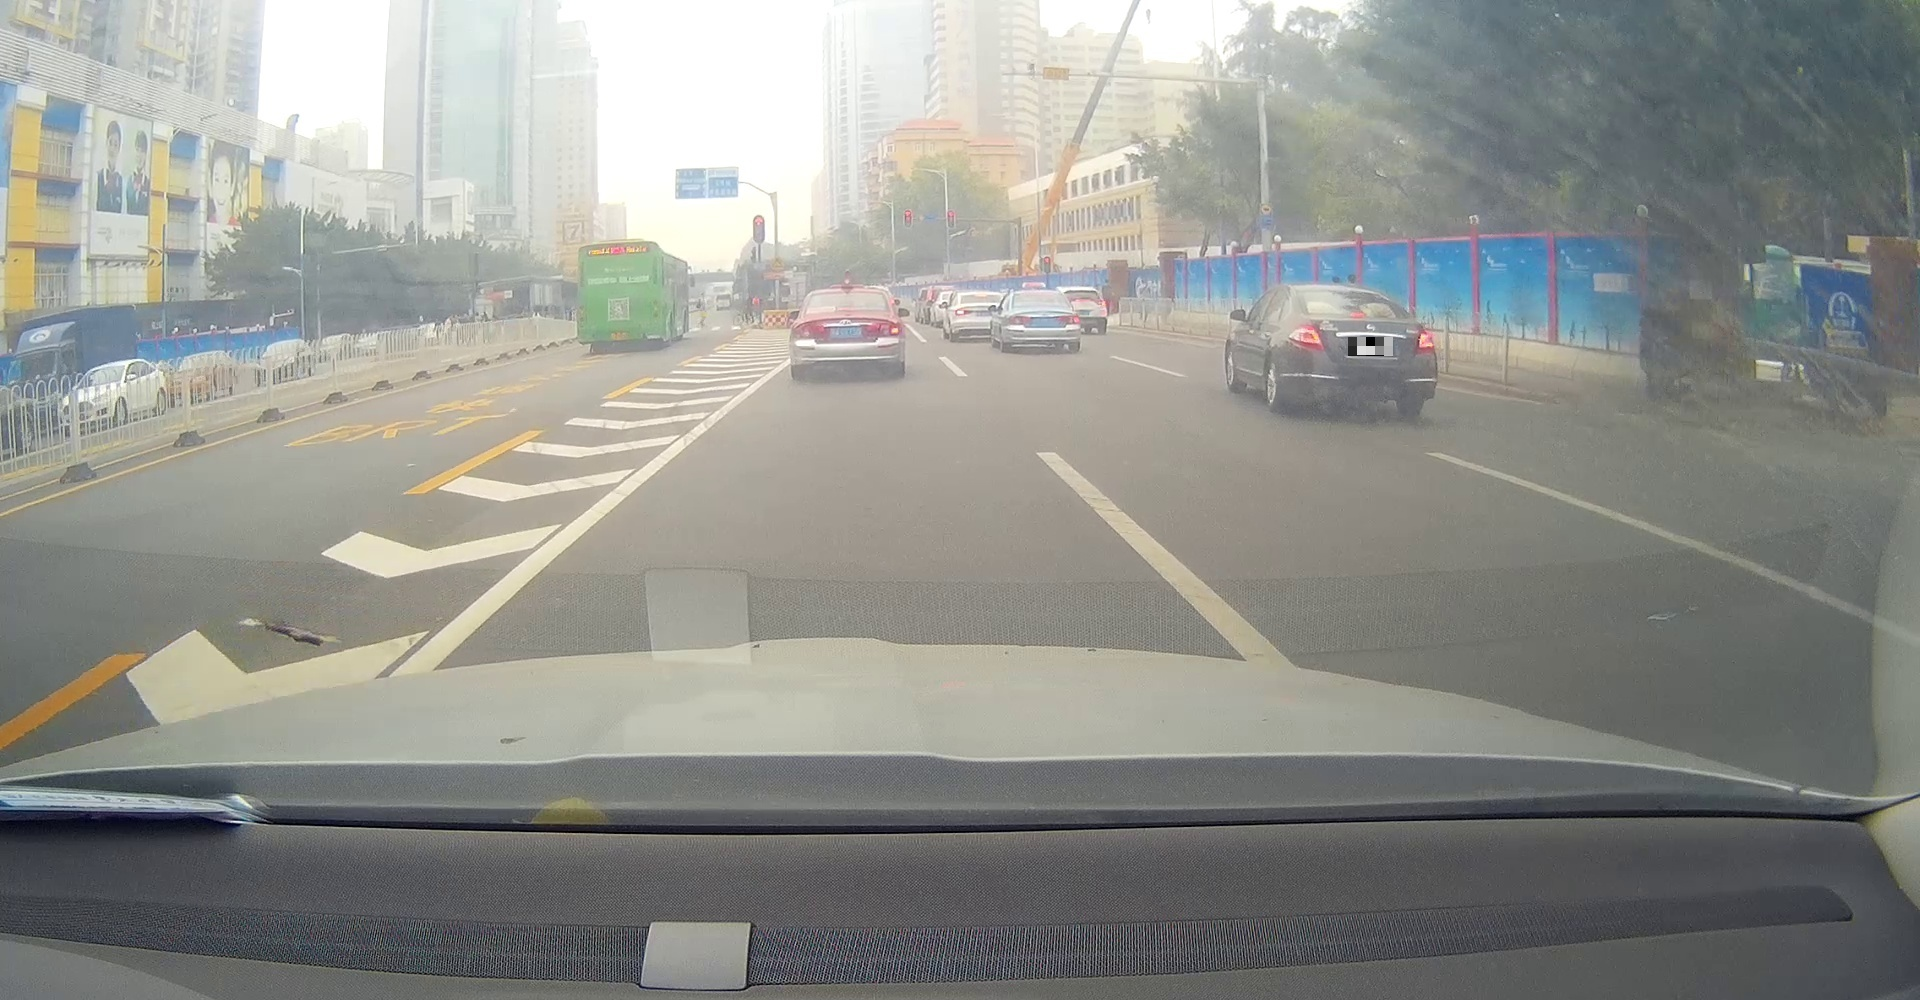L_light: (1288, 325, 1324, 350), (792, 324, 824, 338), (1010, 315, 1030, 324), (578, 306, 584, 326)
R_light: (1415, 329, 1435, 357), (869, 324, 900, 336), (1060, 313, 1079, 324), (651, 301, 659, 324)
T_light: (1350, 311, 1364, 319), (839, 307, 853, 311), (613, 242, 623, 247), (1032, 293, 1043, 296)
day-brake: (1284, 283, 1437, 416)
day-no: (789, 286, 904, 379), (577, 239, 663, 350), (1006, 291, 1081, 352)
plate_1: (1349, 338, 1393, 357)
